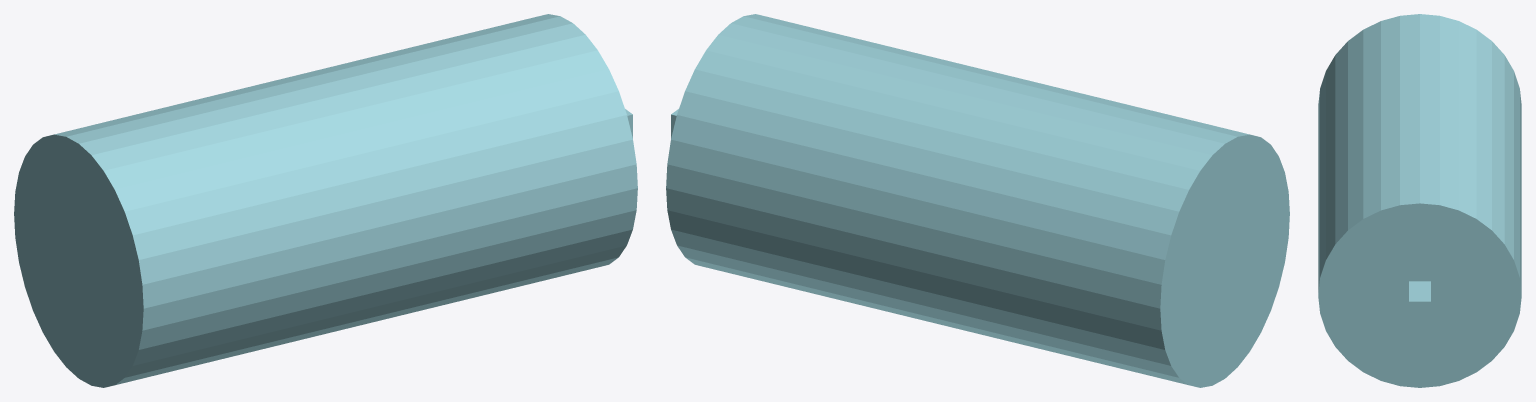
The model's file is cylinder_marker_v4013.obj.
The picture shows the model from 3 angles, left to right: view 1: azimuth 30°, elevation 25°; view 2: azimuth 150°, elevation 25°; view 3: azimuth 270°, elevation 25°; orthographic projection. The views are drawn at different scales.
Size of the model in its own units: 0.1354 by 0.0555 by 0.0555.
1 material, 1 textured.
